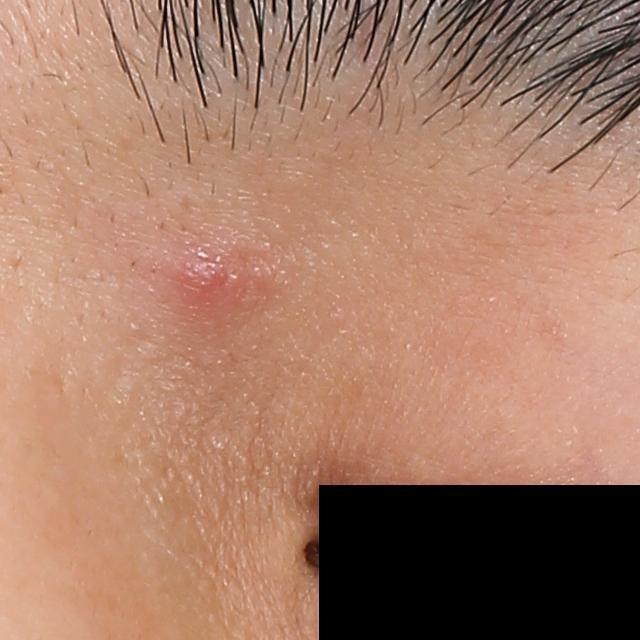papule: (167, 247, 238, 313)
